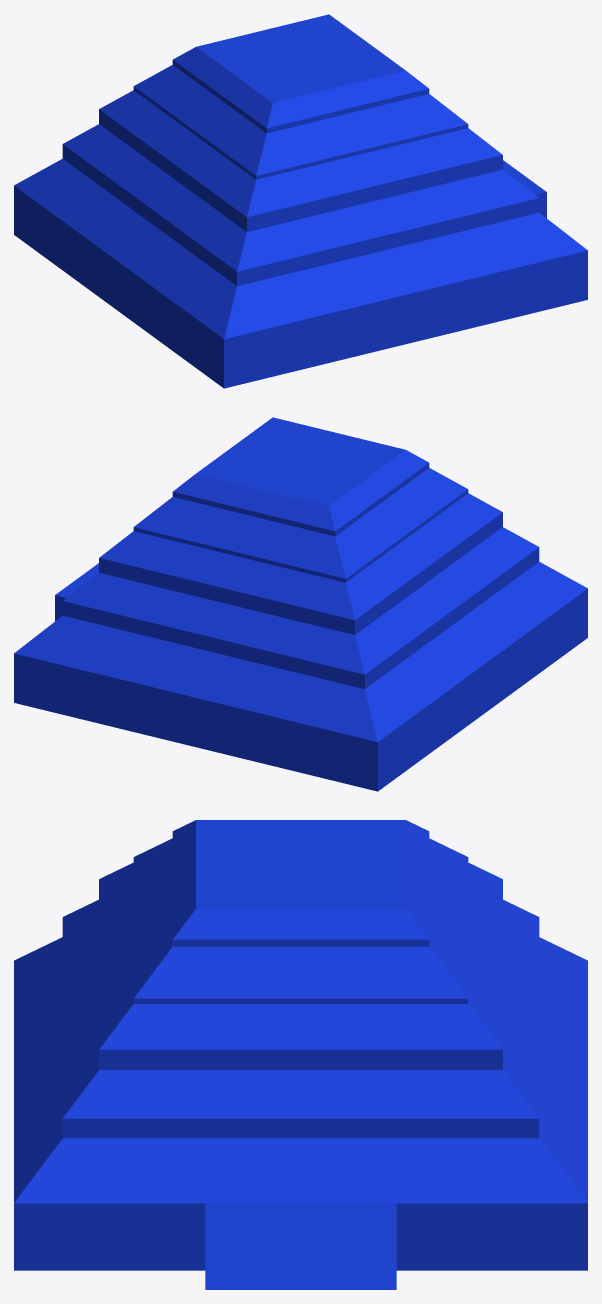
The model's file is DesertTemple.fbx.
The picture shows the model from 3 angles, top to bottom: view 1: azimuth 30°, elevation 25°; view 2: azimuth 150°, elevation 25°; view 3: azimuth 270°, elevation 25°; orthographic projection. The views are drawn at different scales.
Visible parts, largest first — view 1: Cube; view 2: Cube; view 3: Cube.
Part boxes in pixels (<box>): Cube: <box>14,14,587,388</box>; Cube: <box>14,417,587,791</box>; Cube: <box>14,820,587,1289</box>.
Size of what is drawn, in the model's own units: 1943 by 986 by 1800.
